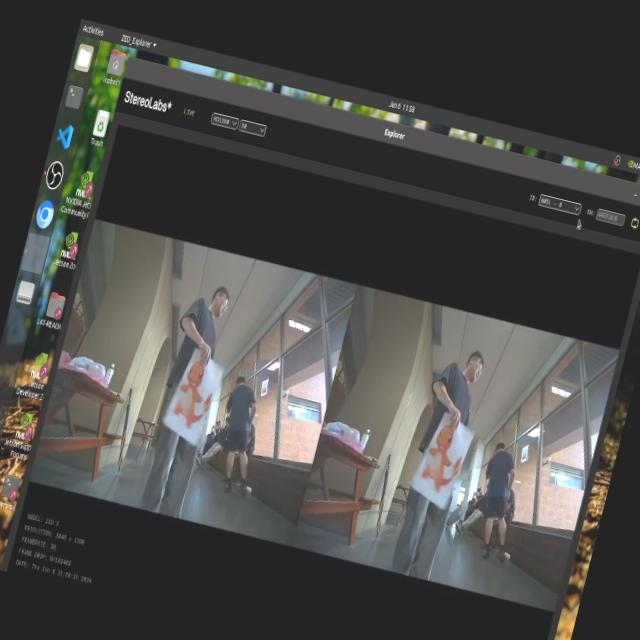red: (163, 350, 231, 458), (411, 410, 475, 508)
